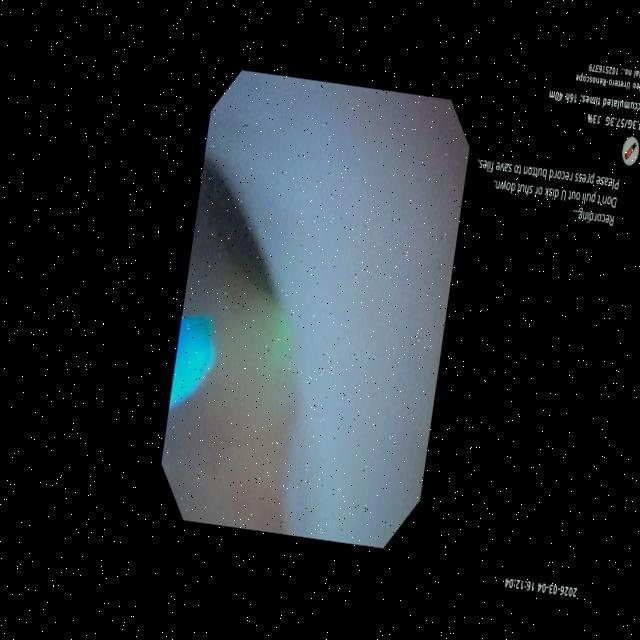laser_dot: (274, 309, 290, 361)
